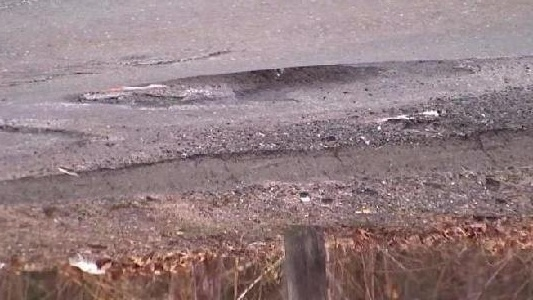pothole: (67, 60, 379, 111)
